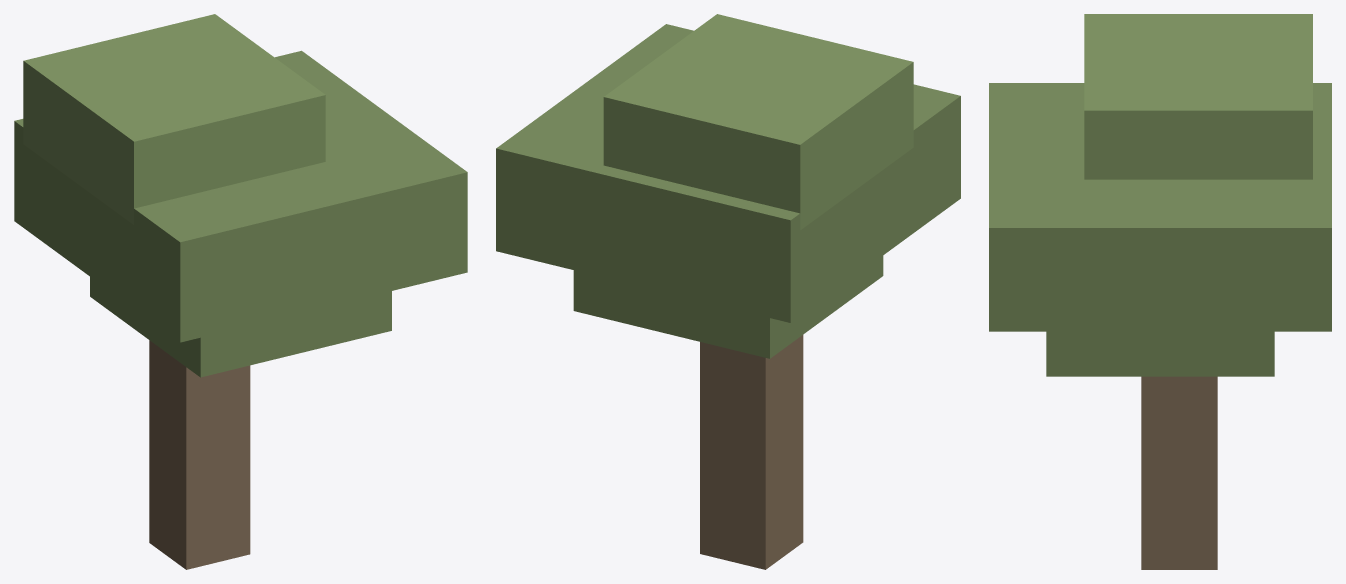
Rendered from higuera_05.glb.
3 renders of one model, left to right at view 1: azimuth 30°, elevation 25°; view 2: azimuth 150°, elevation 25°; view 3: azimuth 270°, elevation 25°, orthographic. The views are drawn at different scales.
Visible parts, largest first — view 1: higuera_05; view 2: higuera_05; view 3: higuera_05.
Part boxes in pixels (x1=…): higuera_05: x1=14, y1=14, x2=467, y2=569; higuera_05: x1=496, y1=14, x2=960, y2=569; higuera_05: x1=989, y1=14, x2=1331, y2=569.
Bounding box in the file's own units: 1.8 × 2.8 × 1.8.
